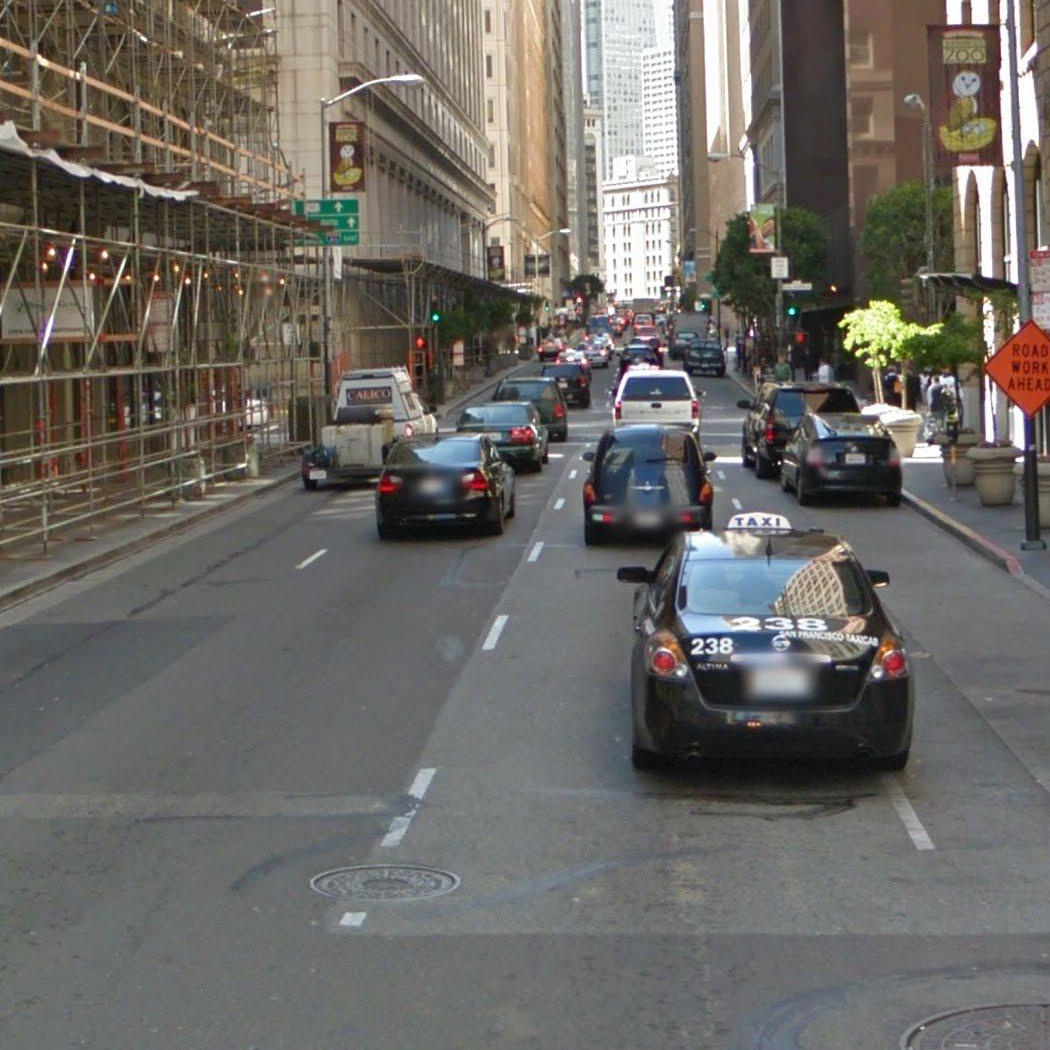No Parking: (1032, 293, 1050, 330)
